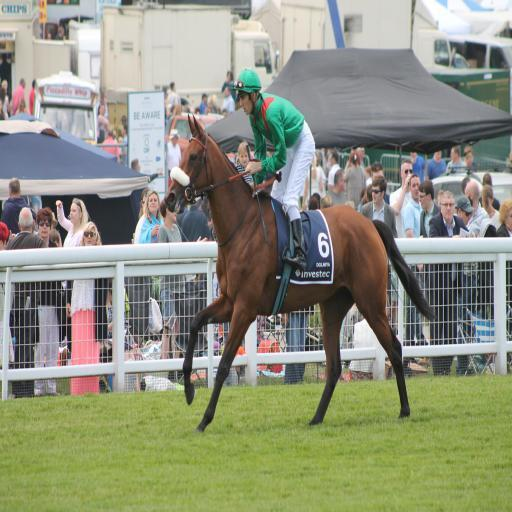horse: (162, 110, 438, 432)
